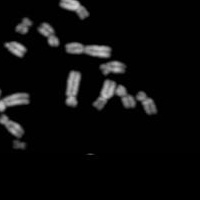chromosome: (93, 79, 116, 110), (66, 42, 111, 57), (59, 0, 89, 20), (0, 91, 29, 111), (0, 115, 23, 138), (66, 70, 80, 107), (137, 90, 157, 115), (39, 22, 59, 45), (117, 85, 135, 107), (100, 61, 126, 76), (4, 42, 25, 58), (14, 17, 31, 34), (13, 140, 25, 149)
